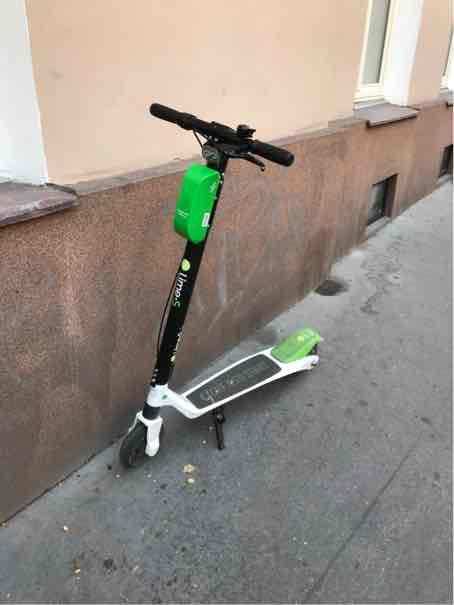scooter: (115, 90, 349, 484)
